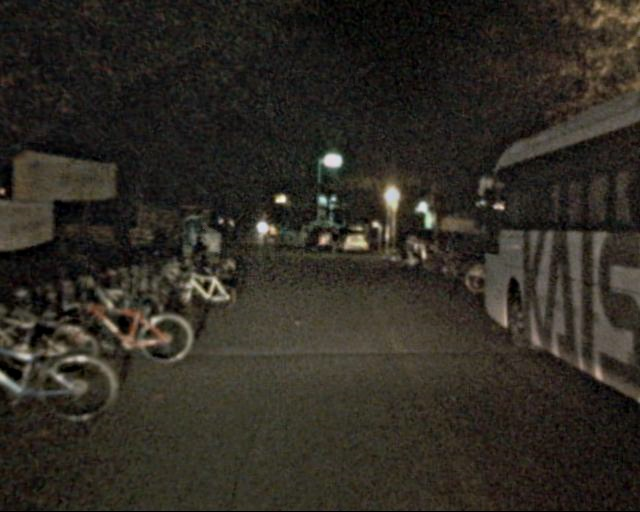person: (197, 224, 222, 284), (326, 227, 340, 261), (308, 228, 320, 257)
